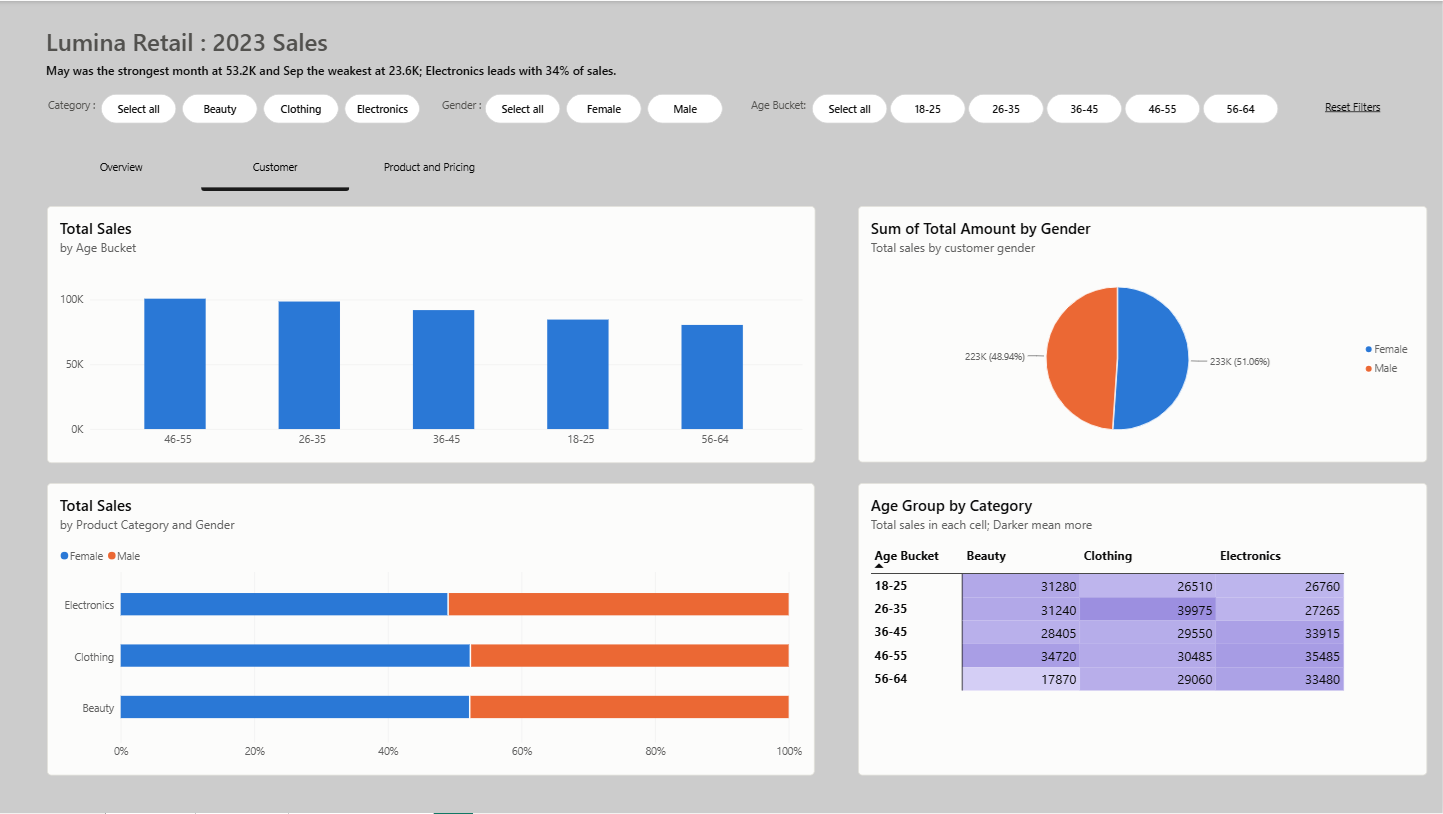

The page's visual inventory and layout, read from the dashboard file:
{"tool":"powerbi","page":{"name":"Customer","canvas":[1920,1080],"ordinal":1},"visuals":[{"type":"columnChart","fields":{"Category":["retail_sales_dataset.Age Bucket"],"Y":["retail_sales_dataset.Total Sales"]},"box":[65.7,272.9,1021.7,341.7],"z":0},{"type":"pieChart","fields":{"Category":["retail_sales_dataset.Gender"],"Y":["Sum(retail_sales_dataset.Total Amount)"]},"box":[1144.3,272.9,757.1,341.4],"z":1000},{"type":"hundredPercentStackedBarChart","fields":{"Category":["retail_sales_dataset.Product Category"],"Series":["retail_sales_dataset.Gender"],"Y":["retail_sales_dataset.Total Sales"]},"box":[65.7,641.4,1021.4,388.6],"z":2000},{"type":"pivotTable","title":"Age Group by Category","fields":{"Columns":["retail_sales_dataset.Product Category"],"Rows":["retail_sales_dataset.Age Bucket"],"Values":["retail_sales_dataset.Total Sales"]},"box":[1144.3,641.4,757.1,388.6],"z":3000},{"type":"pageNavigator","box":[65.7,188.6,607.1,64.3],"z":7000},{"type":"advancedSlicerVisual","fields":{"Values":["retail_sales_dataset.Product Category"]},"box":[137,123.6,431,39],"z":9000},{"type":"textbox","box":[66,129.6,71,28],"z":10000},{"type":"advancedSlicerVisual","fields":{"Values":["retail_sales_dataset.Gender"]},"box":[648,123.6,336,39],"z":11000},{"type":"textbox","box":[591,129.6,71,28],"z":12000},{"type":"textbox","box":[1001,129.6,82,28],"z":13000},{"type":"advancedSlicerVisual","fields":{"Values":["retail_sales_dataset.Age Bucket"]},"box":[1083,123.6,690,39],"z":14000},{"type":"actionButton","box":[1731.4,100,140,50],"z":15000},{"type":"textbox","box":[63.3,32.2,654.5,47.3],"z":15001},{"type":"cardVisual","fields":{"Data":["retail_sales_dataset.Subtitle"]},"box":[47.8,65.6,1571.7,43.3],"z":15002}]}

Visuals, with their boxes in screenshot pixels (x1, y1, x2, y2), scaled from the page's 1920x1080 canvas onto the 1443x814 screenshot:
columnChart - retail_sales_dataset.Age Bucket x retail_sales_dataset.Total Sales: select_region(49, 206, 817, 463)
pieChart - retail_sales_dataset.Gender x Sum(retail_sales_dataset.Total Amount): select_region(860, 206, 1429, 463)
hundredPercentStackedBarChart - retail_sales_dataset.Product Category x retail_sales_dataset.Gender: select_region(49, 483, 817, 776)
"Age Group by Category" pivotTable: select_region(860, 483, 1429, 776)
pageNavigator: select_region(49, 142, 506, 191)
advancedSlicerVisual - retail_sales_dataset.Product Category: select_region(103, 93, 427, 123)
textbox: select_region(50, 98, 103, 119)
advancedSlicerVisual - retail_sales_dataset.Gender: select_region(487, 93, 740, 123)
textbox: select_region(444, 98, 498, 119)
textbox: select_region(752, 98, 814, 119)
advancedSlicerVisual - retail_sales_dataset.Age Bucket: select_region(814, 93, 1333, 123)
actionButton: select_region(1301, 75, 1406, 113)
textbox: select_region(48, 24, 539, 60)
cardVisual - retail_sales_dataset.Subtitle: select_region(36, 49, 1217, 82)
